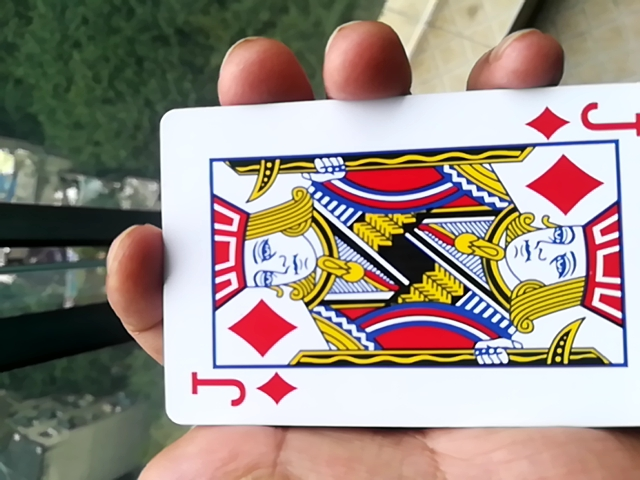fk j: (135, 103, 636, 438)
